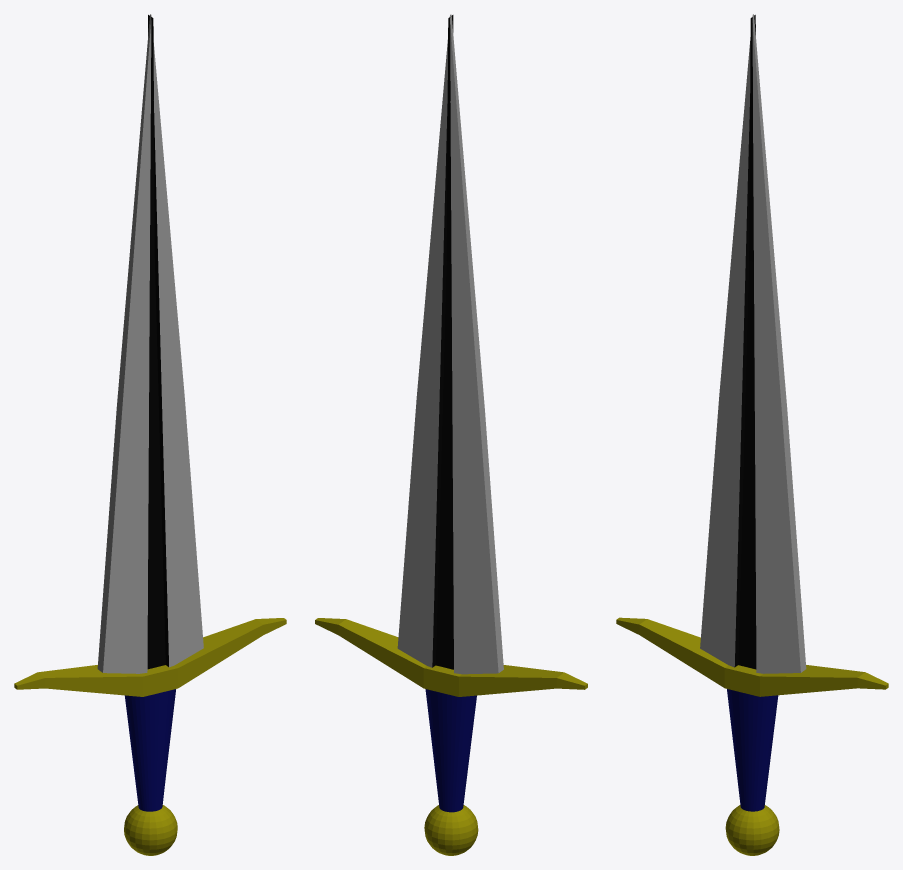
The model's file is ASSETS.fbx_longsword.fbx.
The picture shows the model from 3 angles, left to right: view 1: azimuth 30°, elevation 25°; view 2: azimuth 150°, elevation 25°; view 3: azimuth 330°, elevation 25°; orthographic projection.
Visible parts, largest first — view 1: grandeepee; view 2: grandeepee; view 3: grandeepee.
Boxes of the visible parts, <box> form: grandeepee: <box>14,14,286,855</box>; grandeepee: <box>315,14,587,855</box>; grandeepee: <box>616,14,888,855</box>.
Size of the model in its own units: 36.17 by 108 by 6.3.
